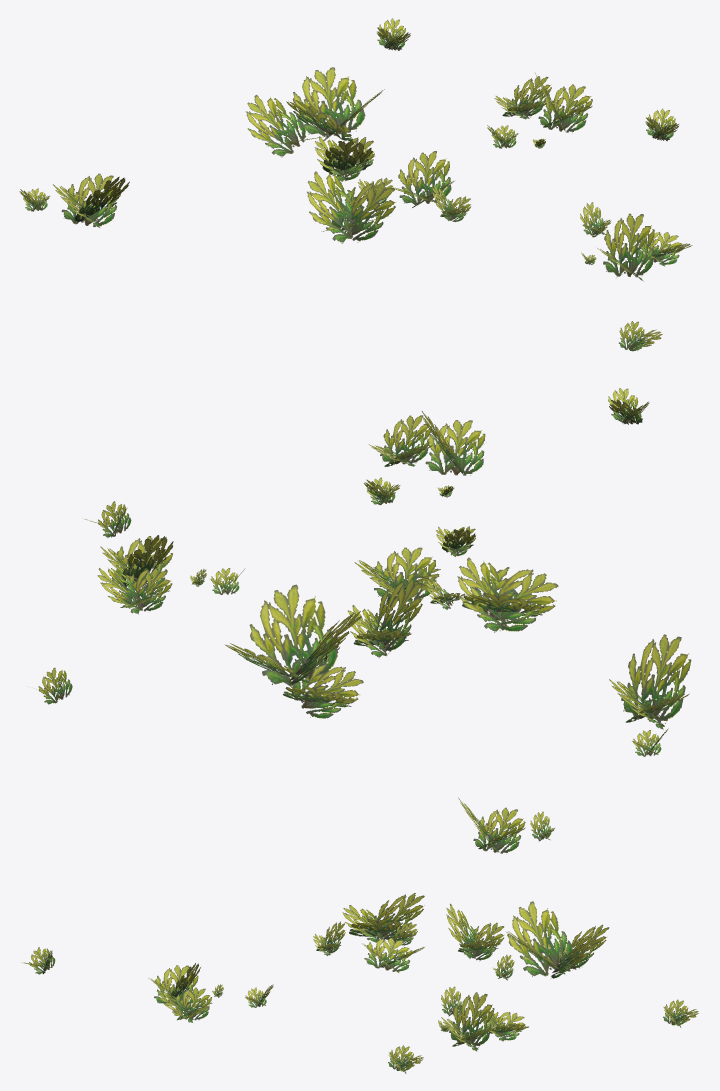
The model's file is Grass_012_LOD0.FBX.
The picture shows the model from 3 angles, top to bottom: view 1: azimuth 30°, elevation 25°; view 2: azimuth 150°, elevation 25°; view 3: azimuth 270°, elevation 25°; orthographic projection. The views are drawn at different scales.
Visible parts, largest first — view 1: Grass_012_LOD0; view 2: Grass_012_LOD0; view 3: Grass_012_LOD0.
Boxes of the visible parts, x1,y1,x2,y2 form: Grass_012_LOD0: (19,18,692,351); Grass_012_LOD0: (36,388,691,756); Grass_012_LOD0: (22,797,698,1073).
Bounding box in the file's own units: 1546 × 209 × 1829.
